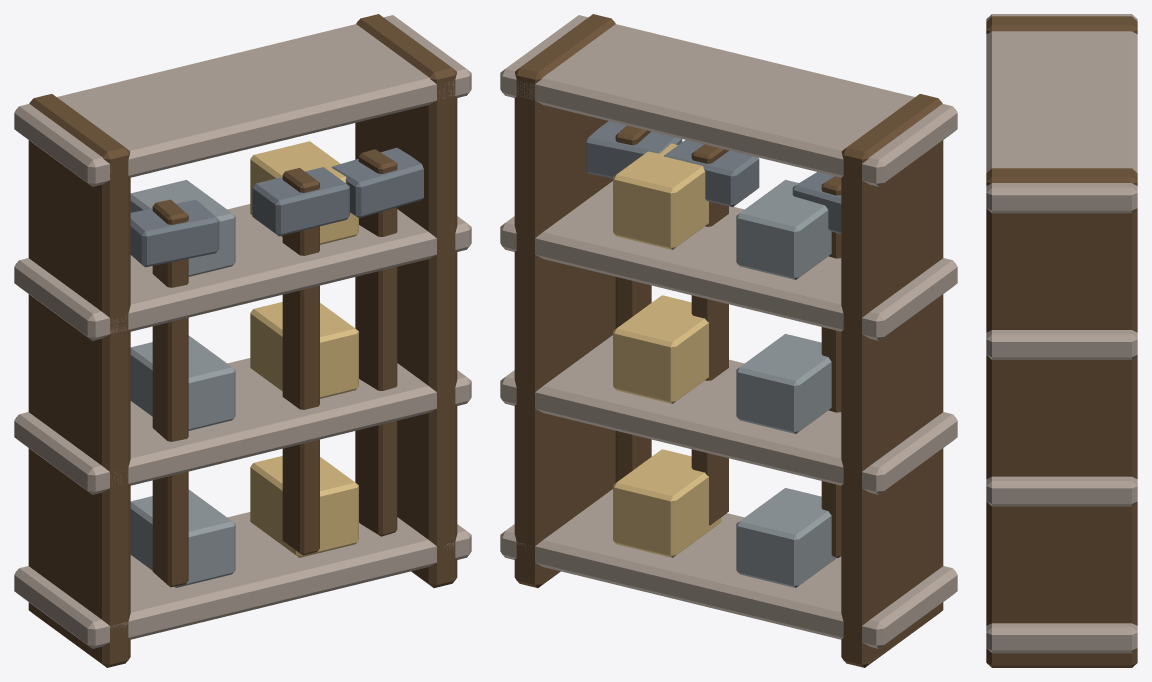
The model's file is town_grave_tool_rack.glb.
3 views of the same model, side by side, from view 1: azimuth 30°, elevation 25°; view 2: azimuth 150°, elevation 25°; view 3: azimuth 270°, elevation 25° (orthographic). The views are drawn at different scales.
Bounding box in the file's own units: 1.34 × 1.72 × 0.48.
